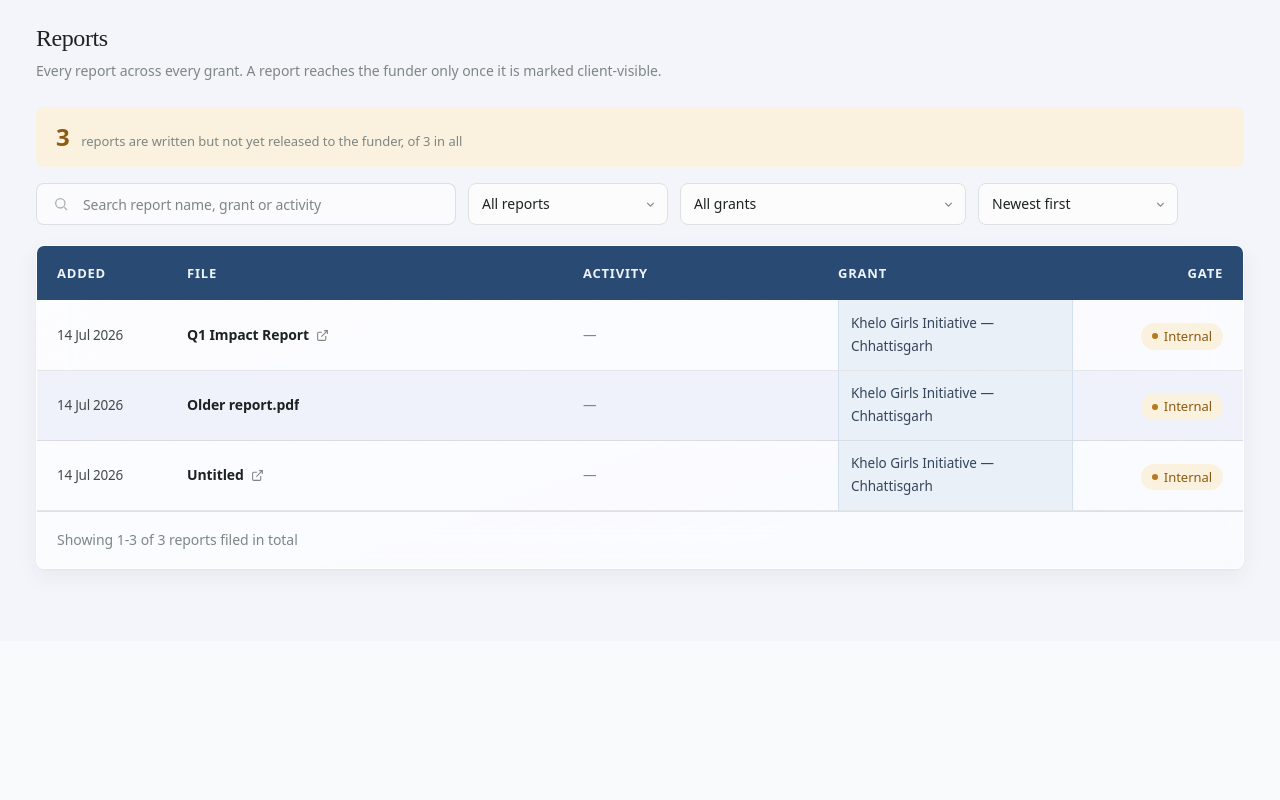
a report shows the Report Name staff typed, and search finds it by that name
The width and height of the screenshot is (1280, 800).
Expected: the text "Q1 Impact Report" is shown, [187,323,309,347]
Expected: the text "Older report.pdf" is shown, [187,393,299,417]
In the field named "Search reports": coordinates (260, 204) [81,194,439,215], type "impact"
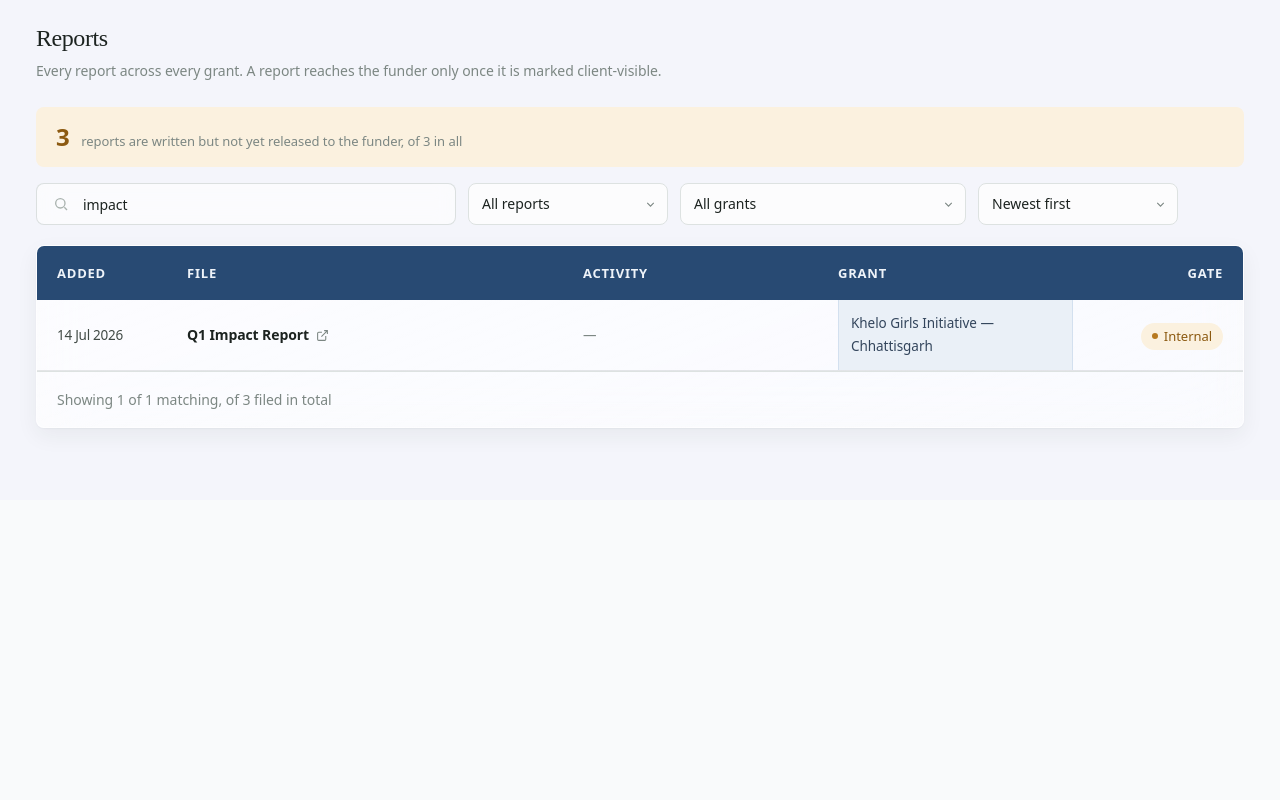
Expected: the text "Q1 Impact Report" is shown, [187,323,309,347]
Expected: the button "Older report.pdf" is gone
